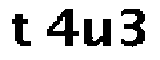3: (119, 6, 148, 51)
4: (44, 7, 80, 48)
t: (9, 11, 32, 51)
u: (82, 14, 113, 51)
